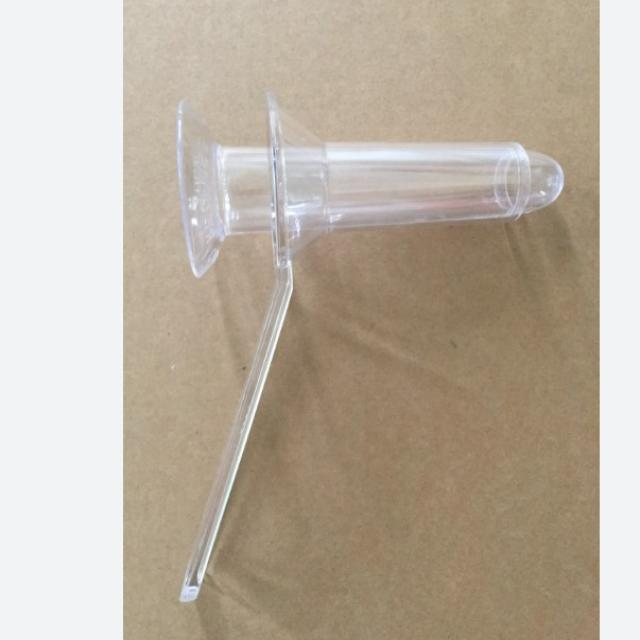Protoscope: (158, 85, 570, 613)
